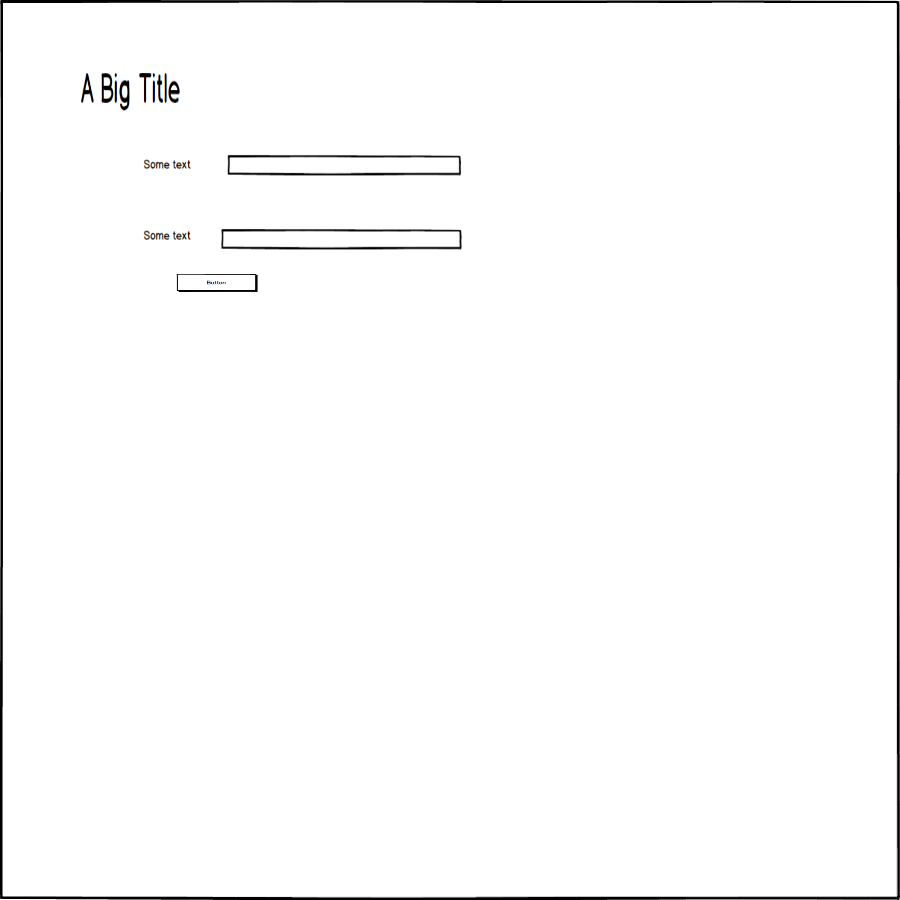button: (168, 267, 265, 296)
h1: (74, 66, 187, 114)
input: (219, 221, 471, 258), (220, 148, 474, 181)
label: (133, 149, 198, 177), (135, 221, 200, 247)
